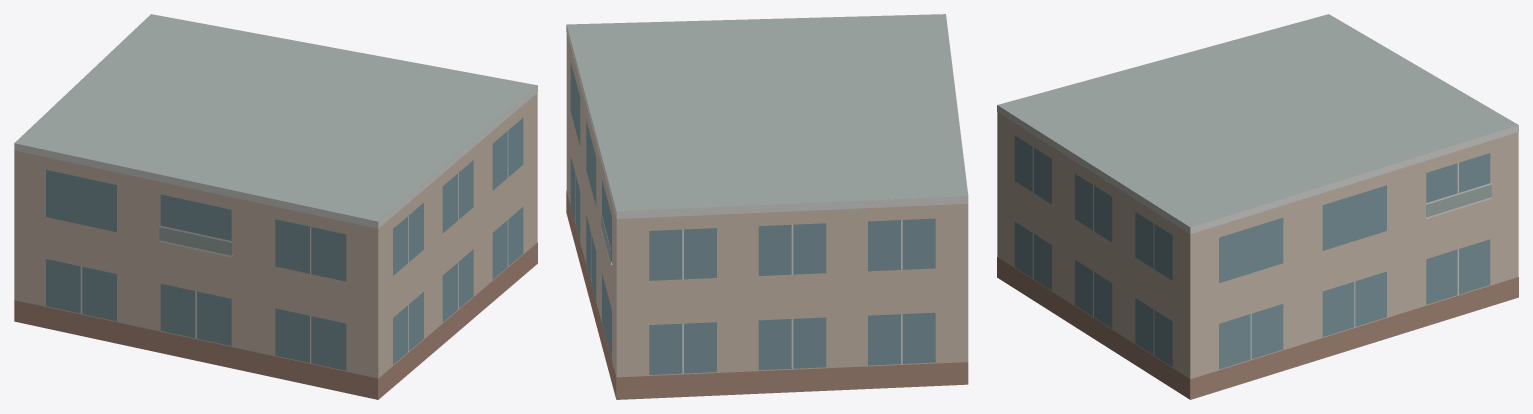
Rendered from survey-upis-32764836.glb.
3 renders of one model, left to right at view 1: azimuth 30°, elevation 25°; view 2: azimuth 150°, elevation 25°; view 3: azimuth 270°, elevation 25°, orthographic. The views are drawn at different scales.
Visible parts, largest first — view 1: survey-upis-32764836.tmp; view 2: survey-upis-32764836.tmp; view 3: survey-upis-32764836.tmp.
Boxes of the visible parts, left/top/right/bottom form: survey-upis-32764836.tmp: left=14, top=14, right=537, bottom=399; survey-upis-32764836.tmp: left=566, top=14, right=968, bottom=399; survey-upis-32764836.tmp: left=997, top=14, right=1518, bottom=399.
Bounding box in the file's own units: 16.19 × 6.1 × 16.73.
